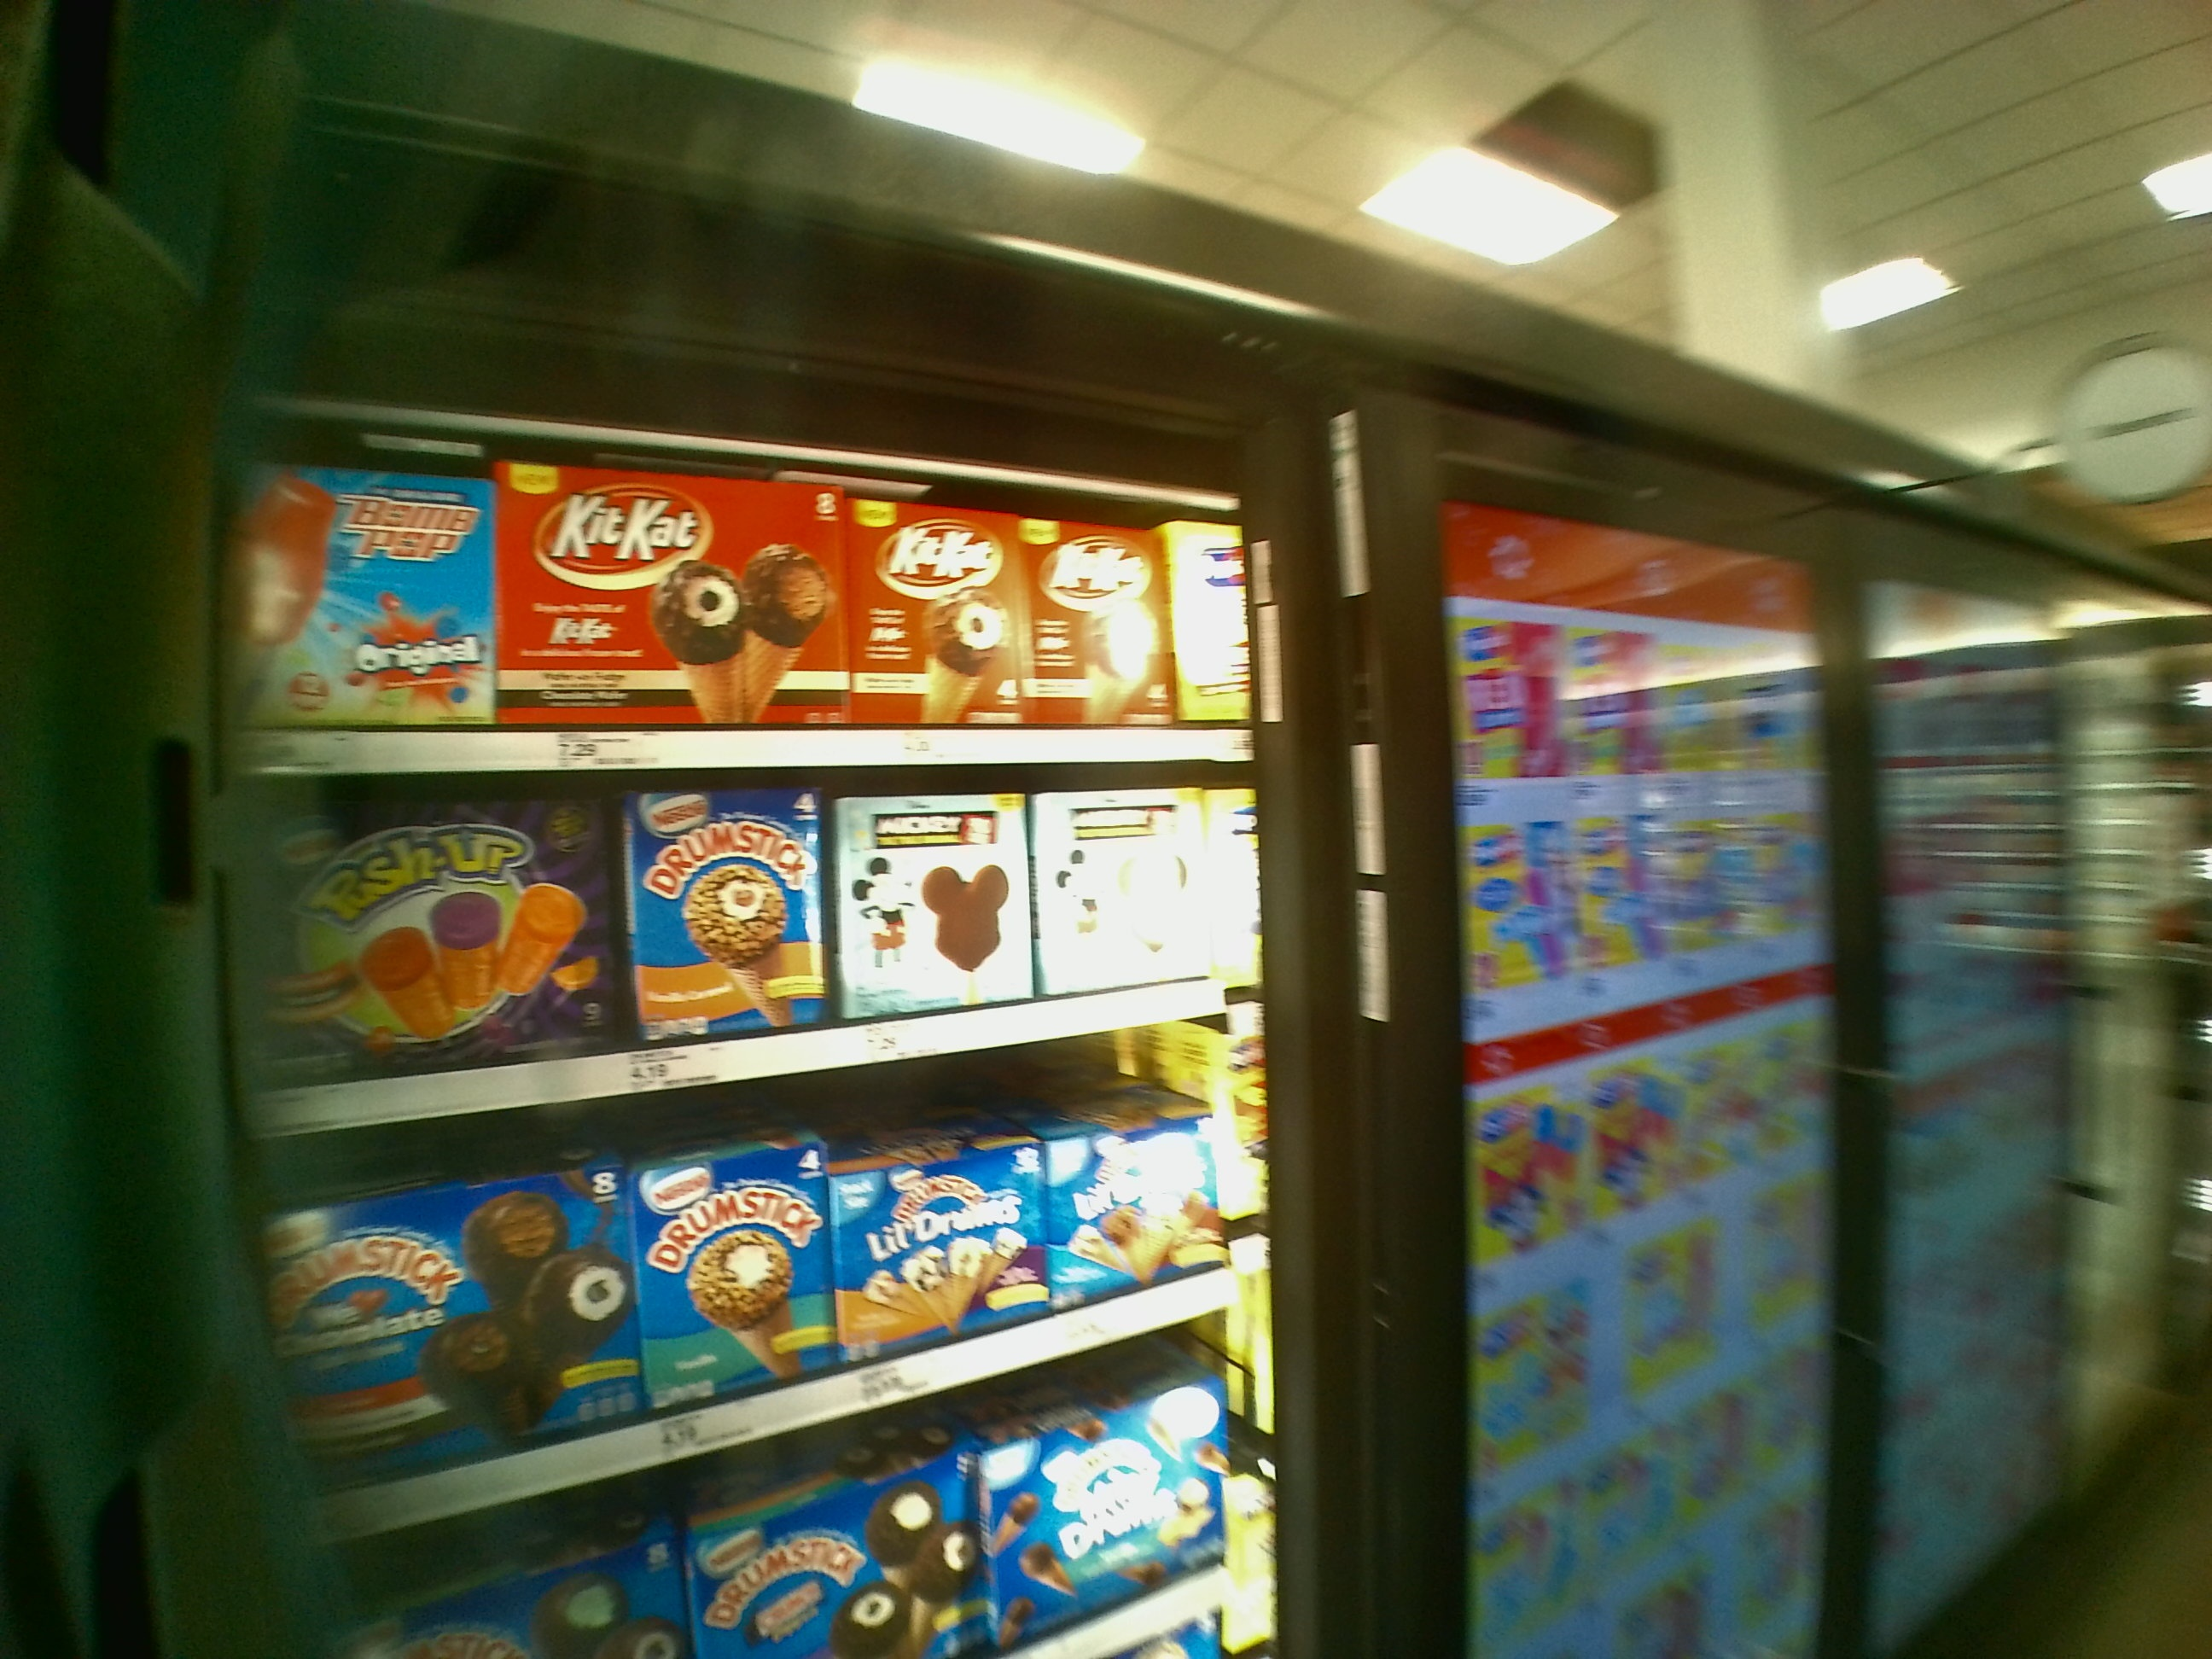shelf: (256, 1073, 1249, 1474), (214, 429, 1254, 772), (223, 760, 1259, 1079)
